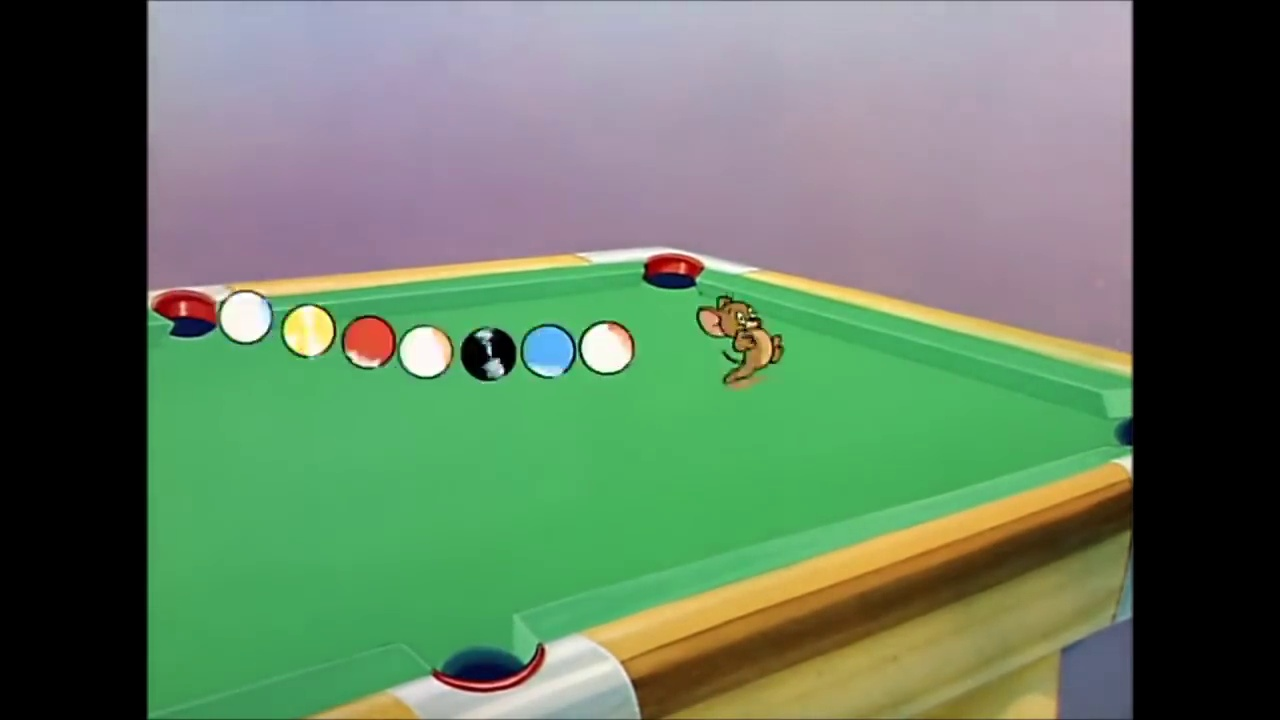sad: (725, 302, 764, 333)
